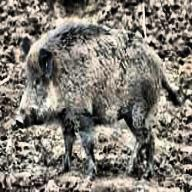boar: (16, 23, 181, 180)
